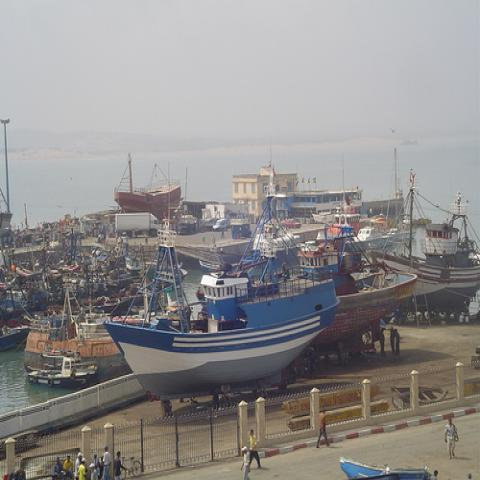car: (213, 217, 231, 231), (282, 218, 301, 230)
